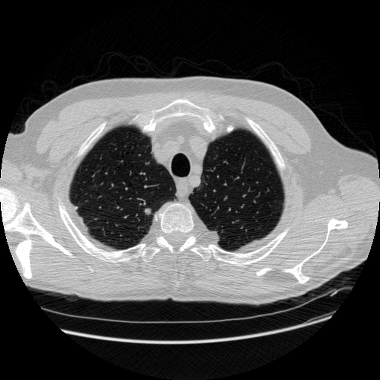nodule: (144, 207, 150, 213)
